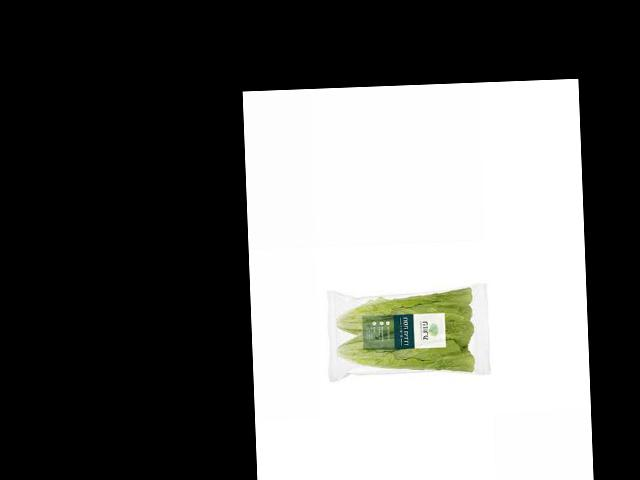lettuce: (336, 232, 477, 322)
